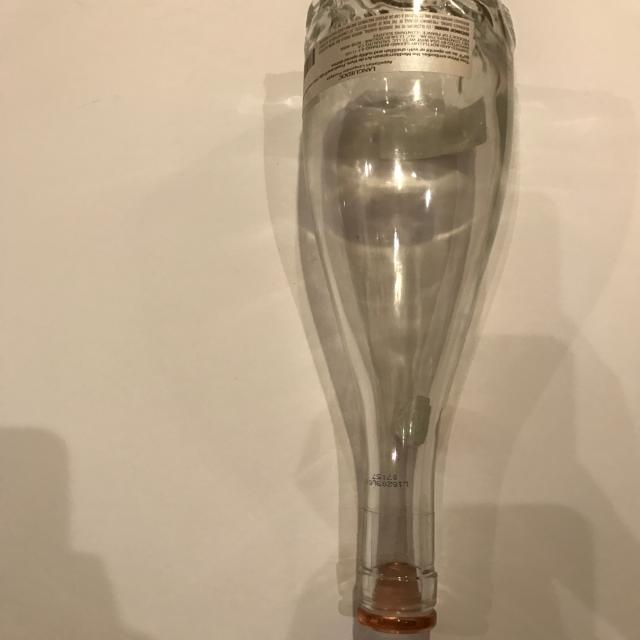glass: (296, 1, 512, 634)
